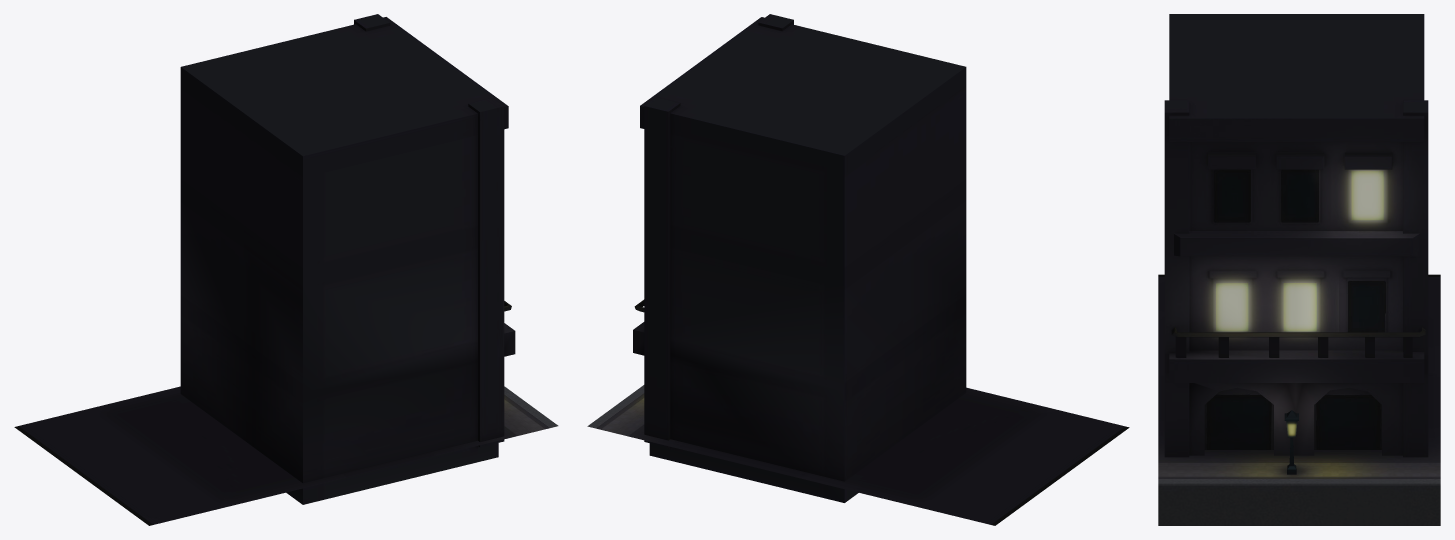
3 views of the same model, side by side, from view 1: azimuth 30°, elevation 25°; view 2: azimuth 150°, elevation 25°; view 3: azimuth 270°, elevation 25° (orthographic). The views are drawn at different scales.
Parts seen in each view (by area): view 1: modelB001; view 2: modelB001; view 3: modelB001.
Part boxes in pixels (x1,y1,x2,y2): modelB001: (14,14,558,525); modelB001: (587,14,1129,525); modelB001: (1158,14,1440,525).
Size of the model in its own units: 7 by 6.05 by 4.
Materials: 1 (1 with a texture image).
